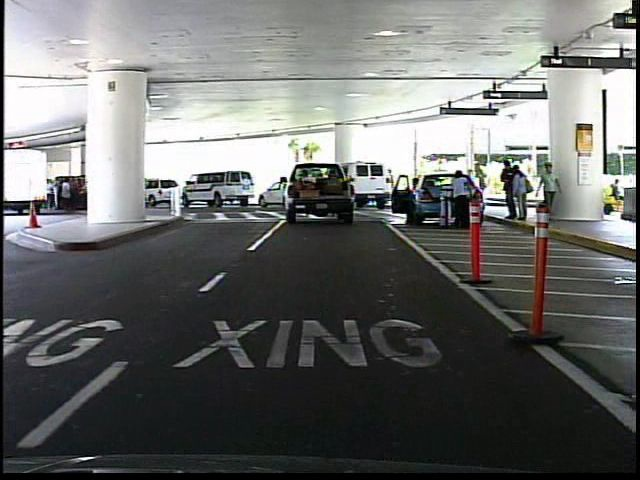person: (445, 164, 474, 232), (537, 159, 561, 226), (382, 164, 399, 209)
